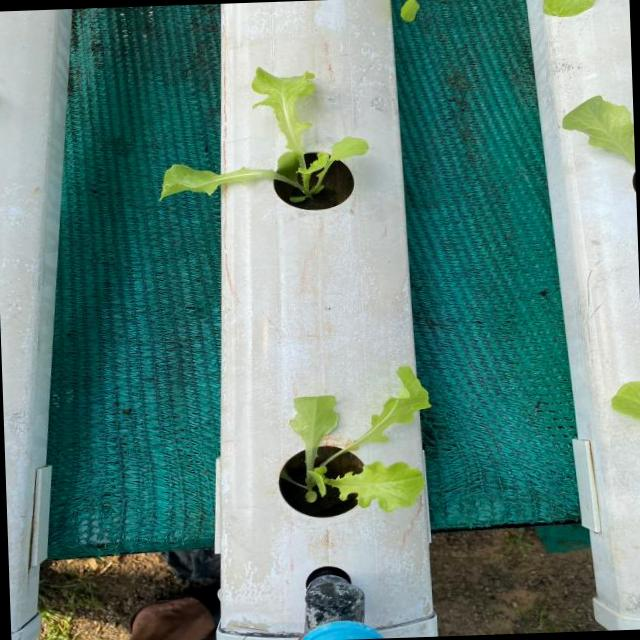Lettuce-Not-Ready-to-Harvest: (161, 67, 368, 201), (289, 366, 429, 511), (562, 95, 635, 165)
